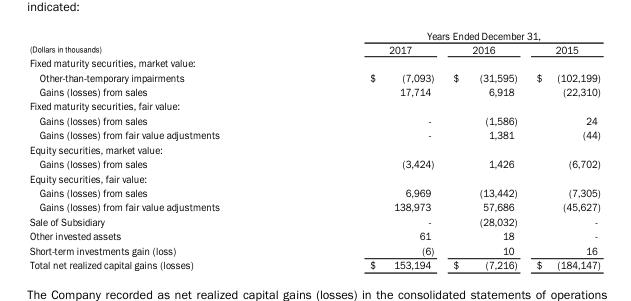table: (28, 29, 599, 270)
table column: (28, 29, 294, 270), (294, 29, 442, 270), (442, 29, 526, 270), (526, 29, 599, 270)
table column header: (28, 29, 599, 55)
table projected row header: (28, 141, 599, 156), (28, 55, 599, 69), (28, 98, 599, 112), (28, 170, 599, 184)
table row: (28, 83, 599, 98), (28, 112, 599, 127), (28, 141, 599, 156), (28, 184, 599, 199), (28, 213, 599, 228), (28, 242, 599, 257), (28, 55, 599, 69), (28, 69, 599, 83), (28, 98, 599, 112), (28, 127, 599, 141), (28, 156, 599, 170), (28, 170, 599, 184), (28, 199, 599, 213), (28, 228, 599, 242), (28, 29, 599, 42), (28, 42, 599, 55), (28, 257, 599, 270)
table spanning cell: (28, 29, 294, 55), (294, 29, 599, 42)
